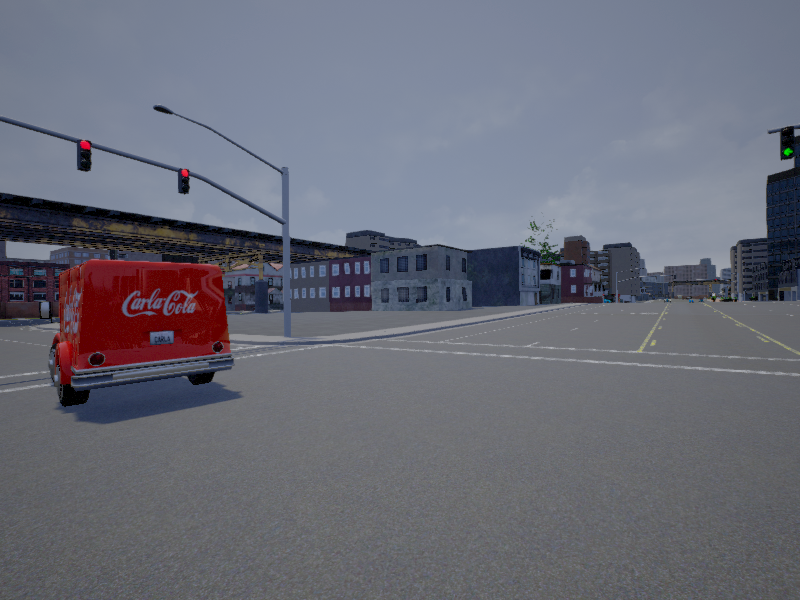Benign: (50, 259, 231, 408)
